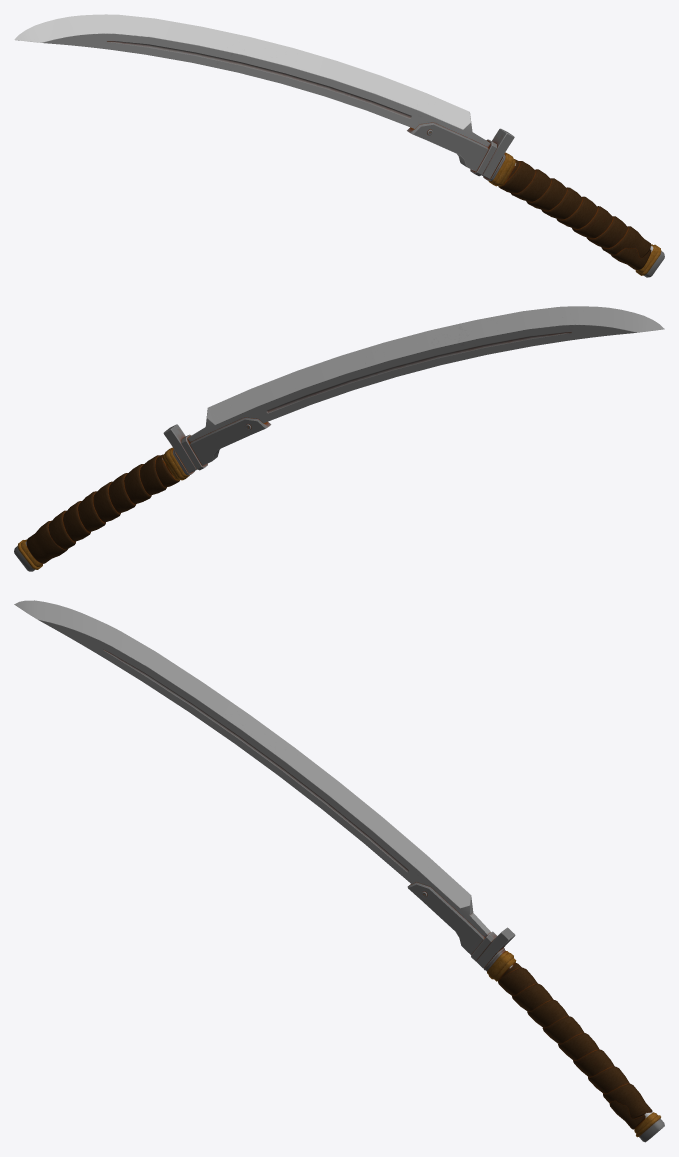
The model's file is katana.glb.
3 views of the same model, one above another, from view 1: azimuth 30°, elevation 25°; view 2: azimuth 150°, elevation 25°; view 3: azimuth 330°, elevation 25° (orthographic). The views are drawn at different scales.
Visible parts, largest first — view 1: Katana; view 2: Katana; view 3: Katana.
Boxes of the visible parts, box(x1,y1,x2,y2) form: Katana: box(14, 14, 664, 277); Katana: box(14, 306, 664, 571); Katana: box(14, 600, 664, 1142).
Size of the model in its own units: 1.93 by 1.15 by 0.0707.
Materials: 1 (1 with a texture image).
